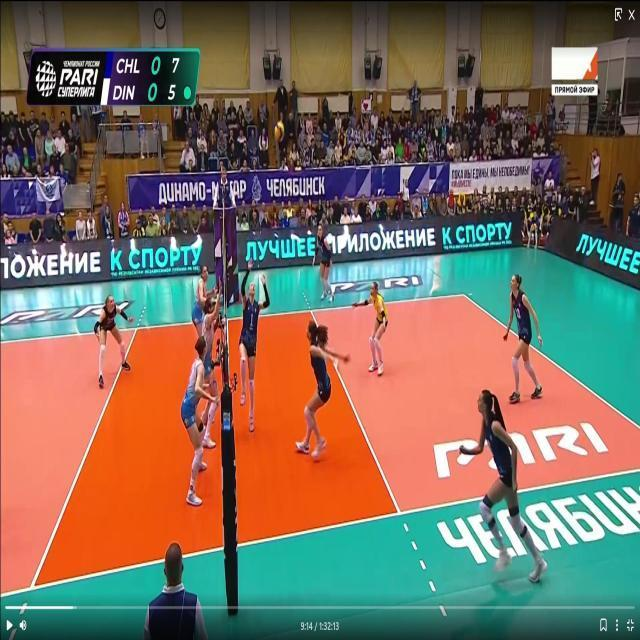volleyball: (274, 121, 286, 141)
